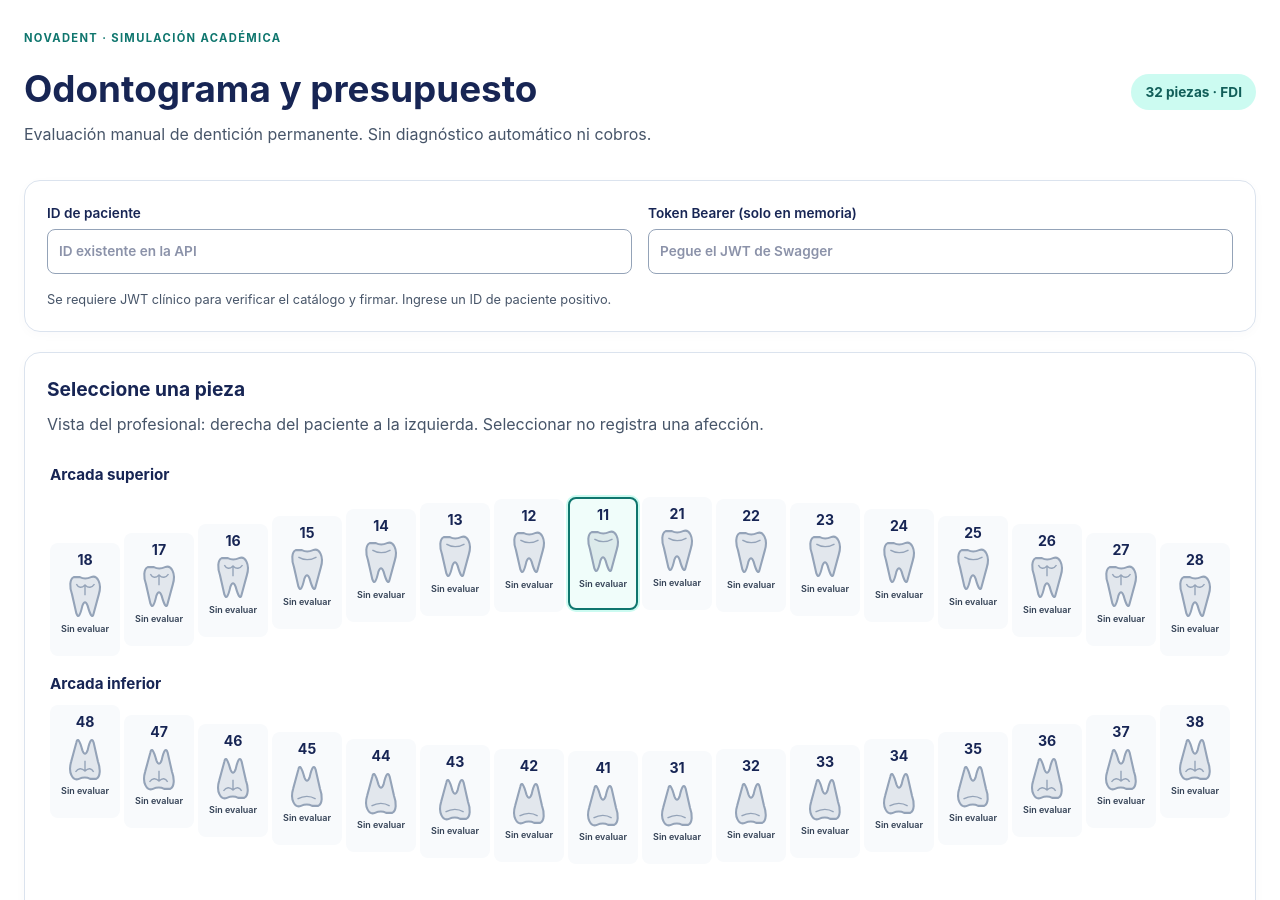
Test: Odontograma académico › uses masked in-memory token without assuming existing authentication
Type "manual-token" into the password field labelled "Token Bearer (solo en memoria)" at x=940, y=252, box 648,229 -> 1233,274
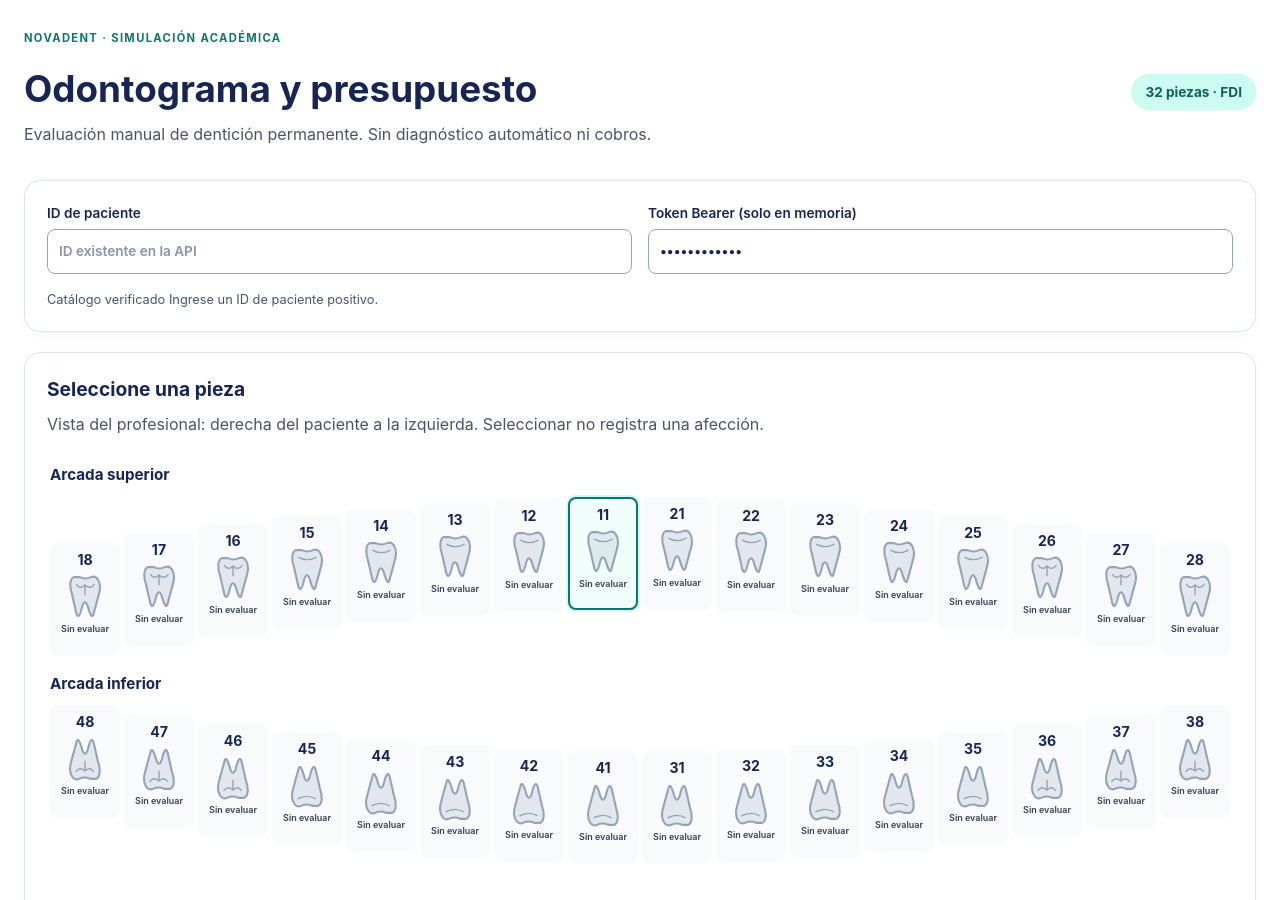
Check: the text "Catálogo verificado Ingrese un ID de paciente positivo." is shown, box 47,292 -> 378,307
